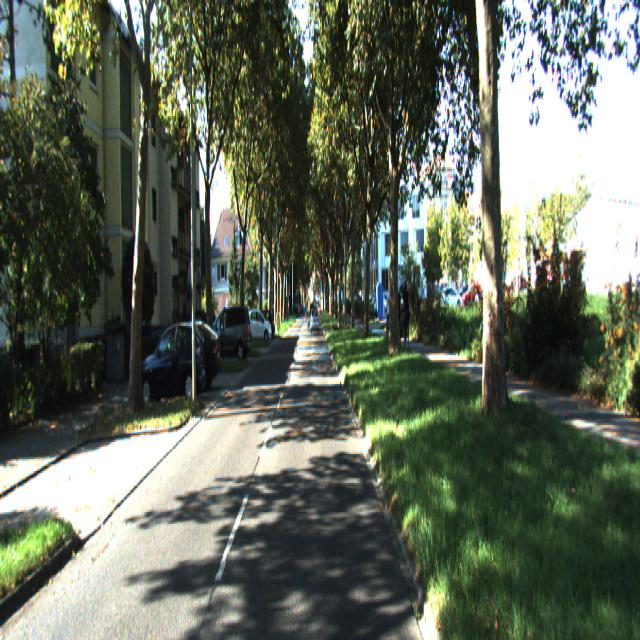Car: (138, 321, 209, 408), (206, 298, 253, 364), (247, 307, 273, 343)
